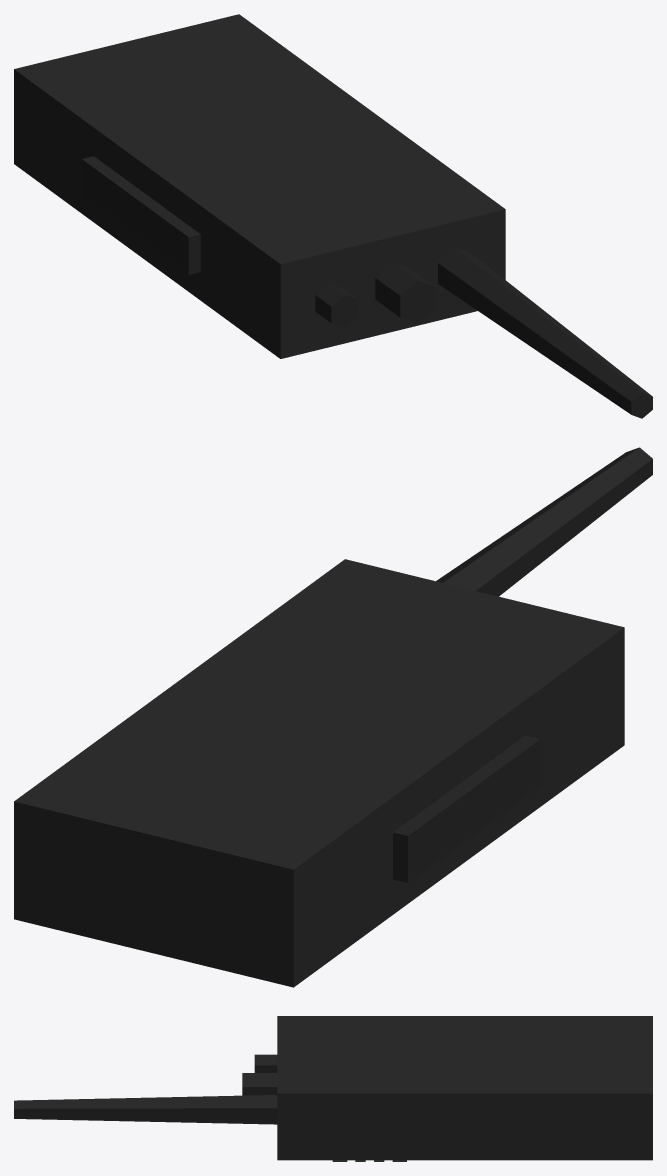
The model's file is Police_M_Radio.fbx.
3 views of the same model, one above another, from view 1: azimuth 30°, elevation 25°; view 2: azimuth 150°, elevation 25°; view 3: azimuth 270°, elevation 25° (orthographic). The views are drawn at different scales.
Parts seen in each view (by area): view 1: Police_M_Radio; view 2: Police_M_Radio; view 3: Police_M_Radio.
Part boxes in pixels (x1,y1,x2,y2): Police_M_Radio: [14, 14, 652, 418]; Police_M_Radio: [14, 447, 652, 987]; Police_M_Radio: [14, 1016, 652, 1161].
Bounding box in the file's own units: 9.69 × 4.46 × 32.07.
